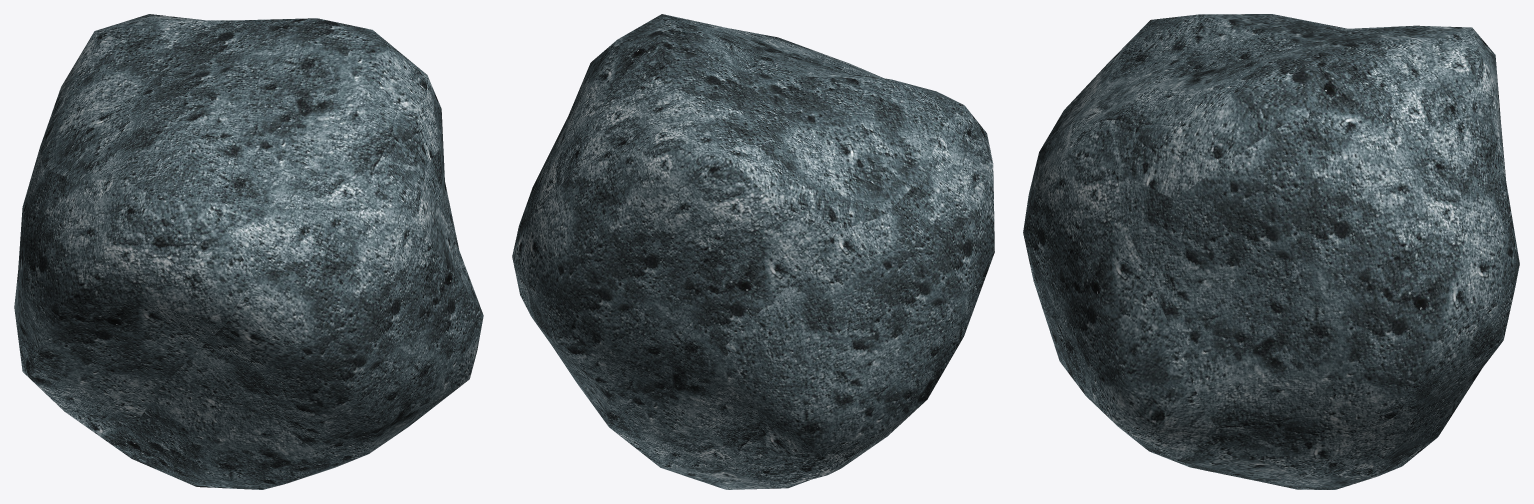
The model's file is ast_upg_06.FBX.
3 renders of one model, left to right at view 1: azimuth 30°, elevation 25°; view 2: azimuth 150°, elevation 25°; view 3: azimuth 270°, elevation 25°, orthographic. The views are drawn at different scales.
Visible parts, largest first — view 1: ast_upg_06; view 2: ast_upg_06; view 3: ast_upg_06.
Boxes of the visible parts, x1=… form: ast_upg_06: x1=14, y1=14, x2=483, y2=489; ast_upg_06: x1=512, y1=14, x2=994, y2=489; ast_upg_06: x1=1023, y1=14, x2=1519, y2=489.
Bounding box in the file's own units: 78.22 × 79.49 × 77.78.
